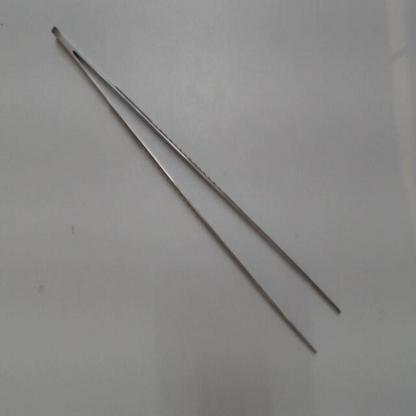DeBakey Dissector: (43, 10, 365, 378)
